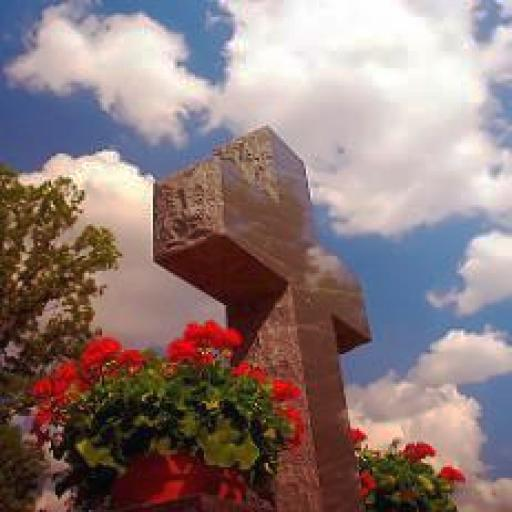rose: (87, 337, 124, 358)
